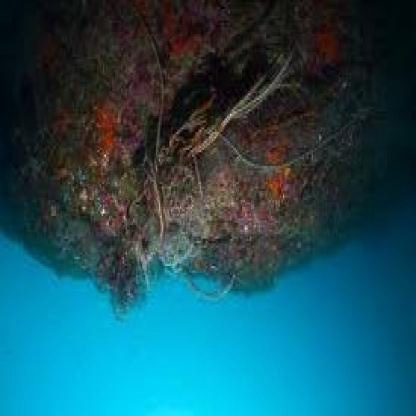net: (130, 12, 334, 236)
